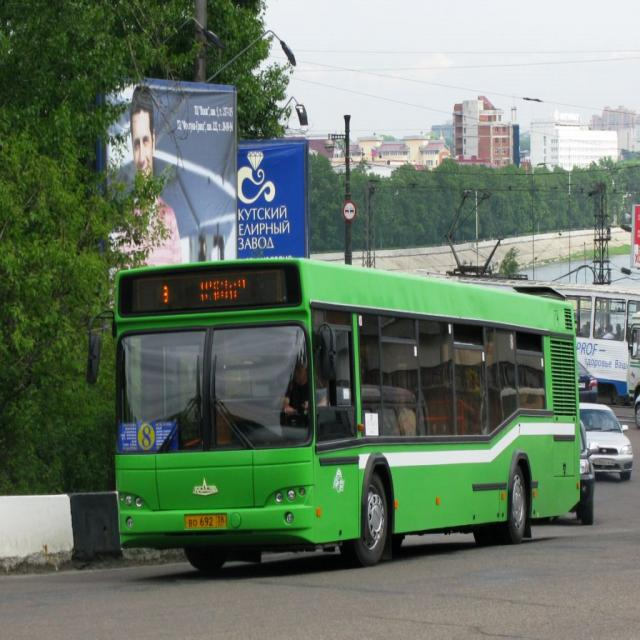number-of-bus: (141, 424, 155, 450)
